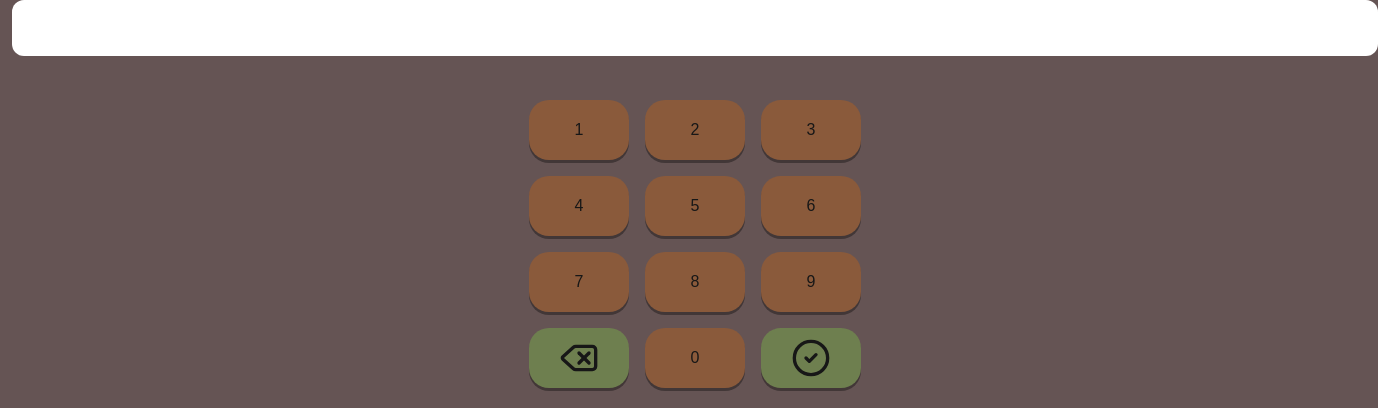
Test: Form › 입력된 번호가 4자리 미만이면 에러 메세지를 표시한다.
The width and height of the screenshot is (1378, 408).
Click the button "1" at (579, 130), box left=529, top=100, right=629, bottom=160
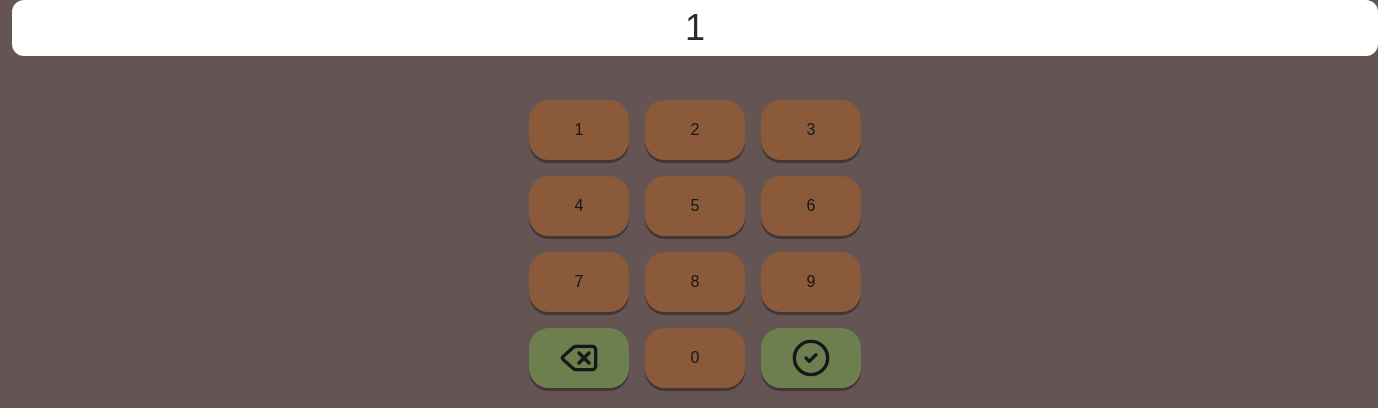
Click the button "2" at (695, 130), box left=645, top=100, right=745, bottom=160
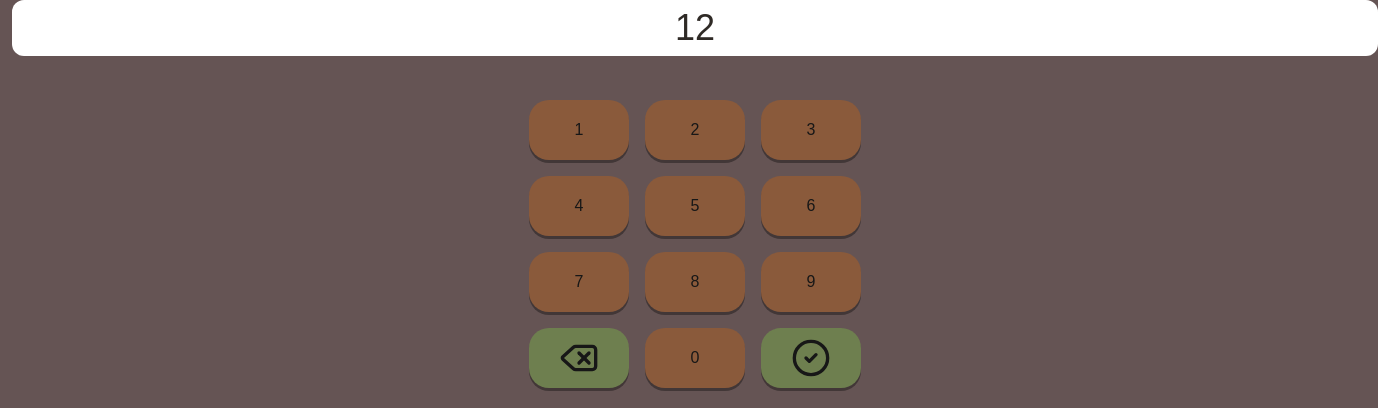
Click the button "3" at (811, 130), box left=761, top=100, right=861, bottom=160
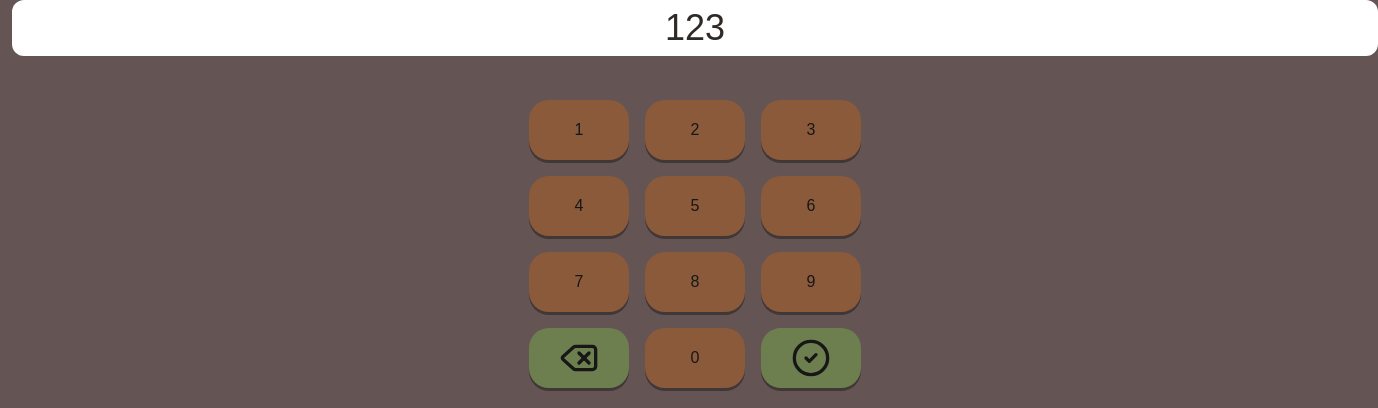
Submit the form
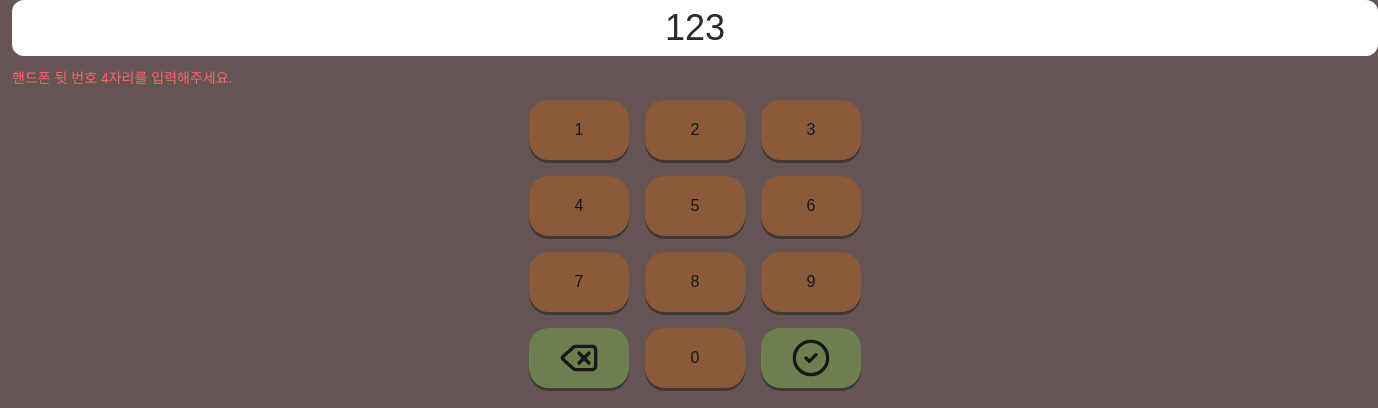
Check: the text with test id "error-message" reads "핸드폰 뒷 번호 4자리를 입력해주세요.", box left=12, top=70, right=232, bottom=86
